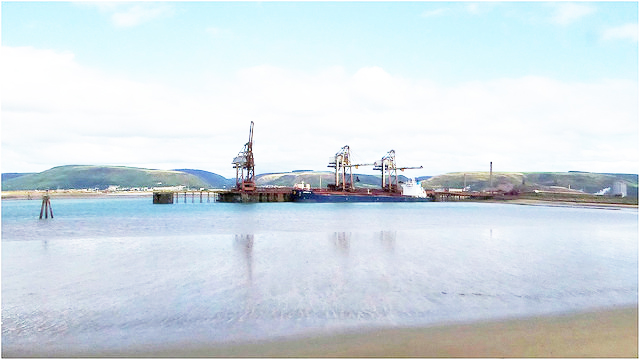bulk carrier: (287, 175, 433, 205)
